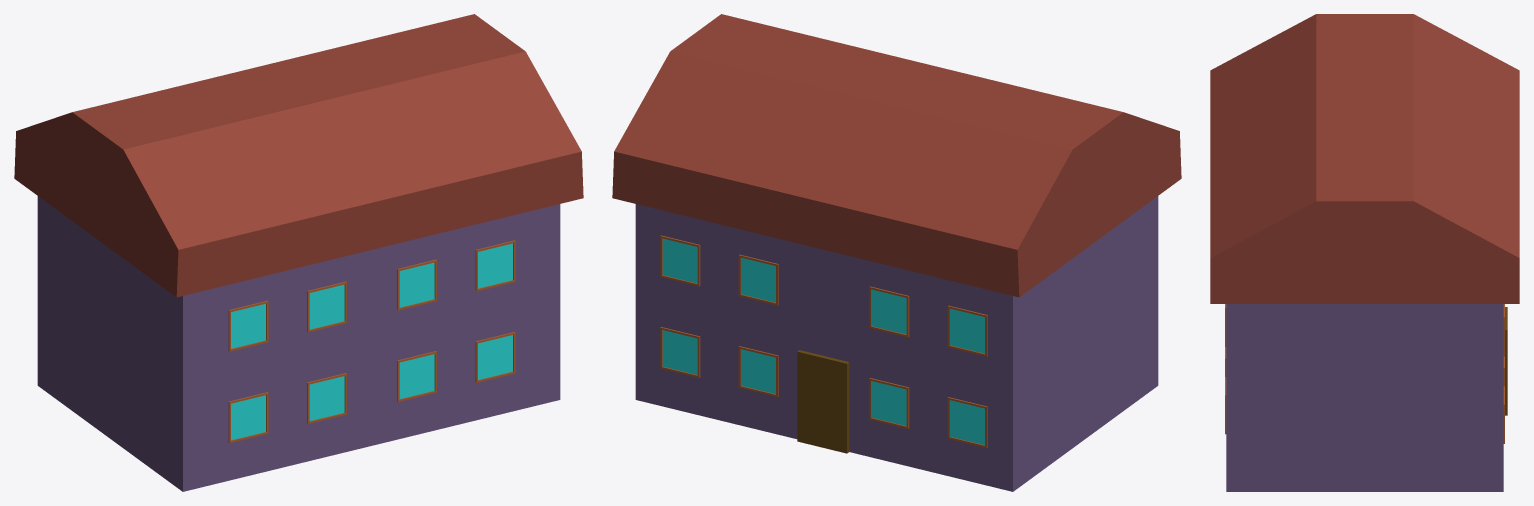
File: house2.fbx
3 renders of one model, left to right at view 1: azimuth 30°, elevation 25°; view 2: azimuth 150°, elevation 25°; view 3: azimuth 270°, elevation 25°, orthographic. The views are drawn at different scales.
Parts seen in each view (by area): view 1: House 2; view 2: House 2; view 3: House 2.
Part boxes in pixels (left/top/right/bottom): House 2: left=14, top=14, right=583, bottom=491; House 2: left=612, top=14, right=1181, bottom=491; House 2: left=1210, top=14, right=1519, bottom=491.
Size of the model in its own units: 323 by 236 by 223.
